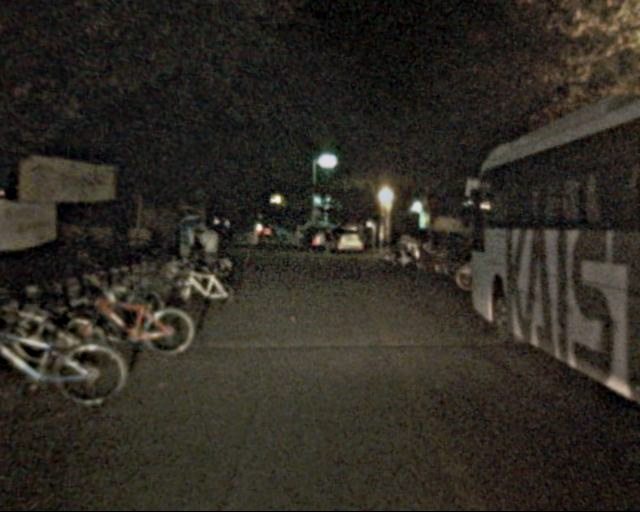person: (190, 218, 217, 285), (318, 228, 332, 261), (302, 230, 314, 260)
